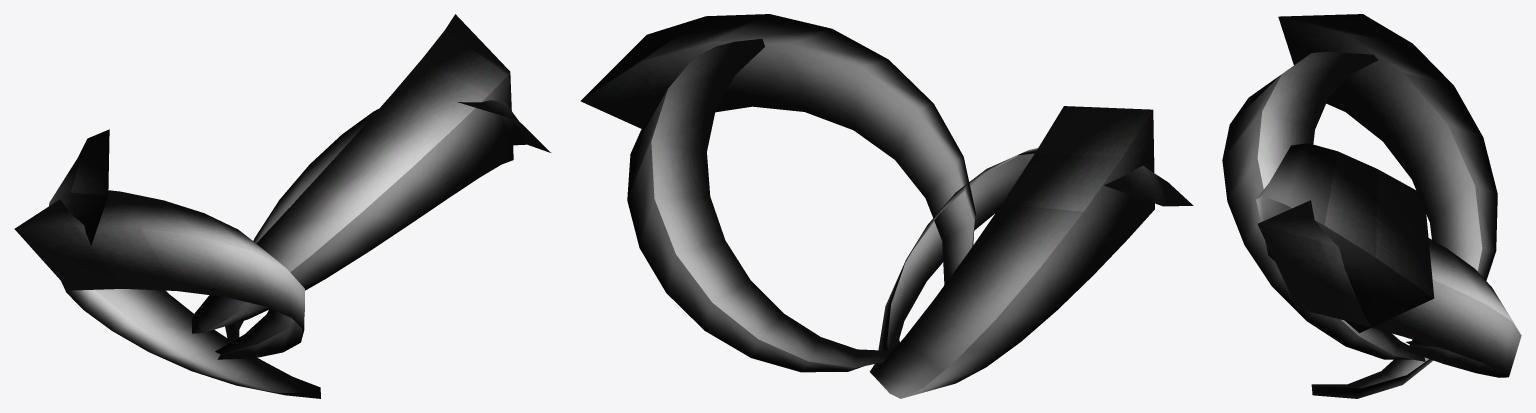
File: vfx_kurp_0261.dae
The picture shows the model from 3 angles, left to right: view 1: azimuth 30°, elevation 25°; view 2: azimuth 150°, elevation 25°; view 3: azimuth 270°, elevation 25°; orthographic projection. The views are drawn at different scales.
Visible parts, largest first — view 1: vfx_kurp_0261; view 2: vfx_kurp_0261; view 3: vfx_kurp_0261.
Part boxes in pixels (x1,y1,x2,y2): vfx_kurp_0261: [14, 14, 550, 398]; vfx_kurp_0261: [580, 14, 1193, 398]; vfx_kurp_0261: [1222, 14, 1521, 398].
Bounding box in the file's own units: 9.51 × 4.69 × 5.38.
Materials: 1 (1 with a texture image).
